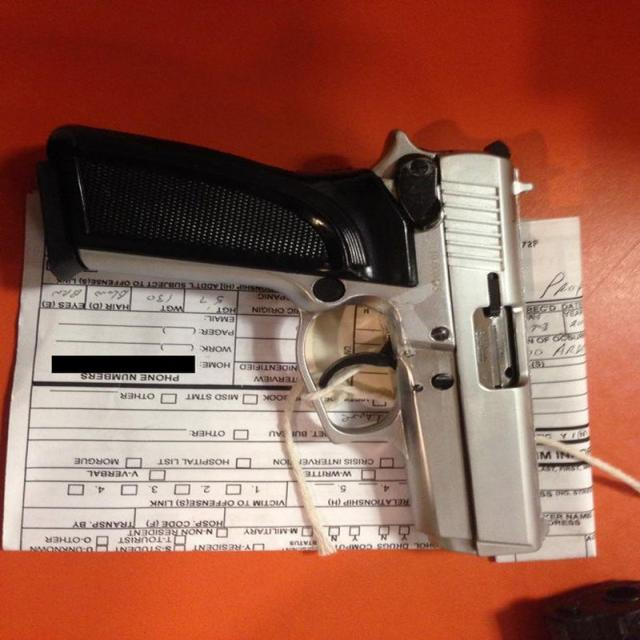HandGun: (35, 125, 546, 559)
